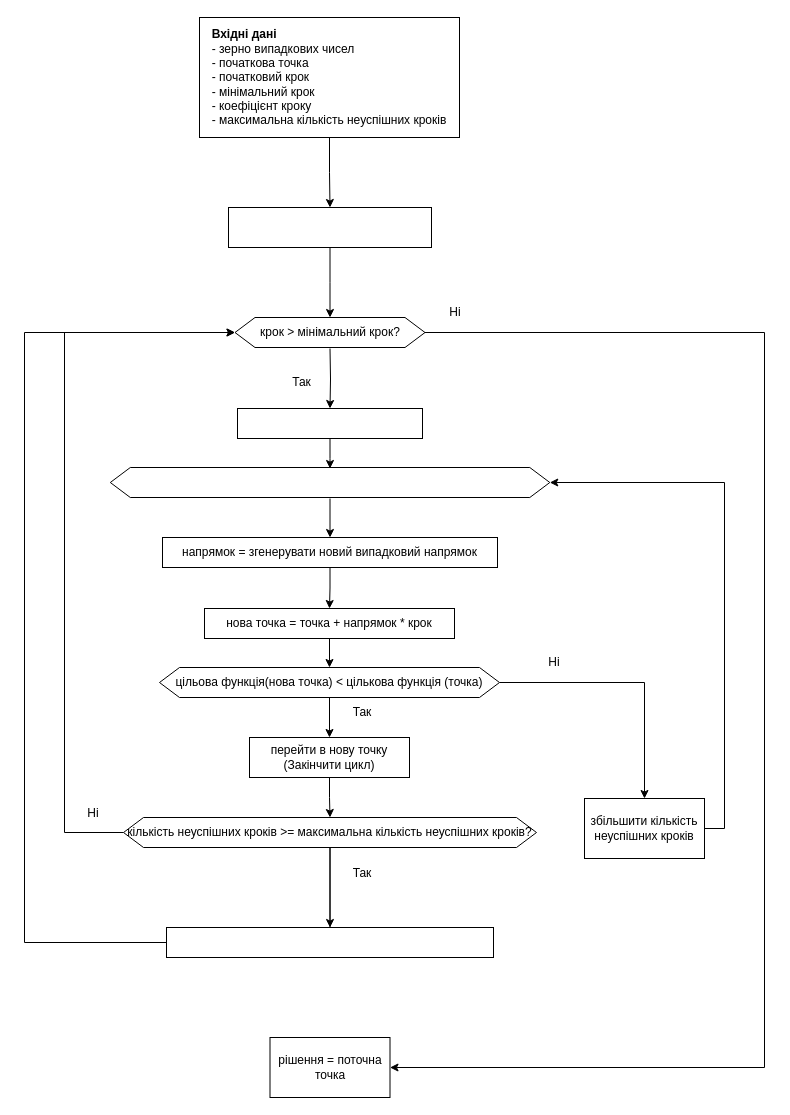
Some shapes in this 790 by 1115 pixel diagram are drawn without their labels. Each missing label, with the centre of its shape:
"зменшити довжину кроку (крок = крок * коефіцієнт кроку)" goes at point 330,942.
"крок = початковий крок поточна точка = початкова точка" goes at point 330,227.
"кількість неуспішних кроків = 0" goes at point 329,423.
"цикл [1; максимальна кількість неуспішних кроків]" goes at point 329,482.
